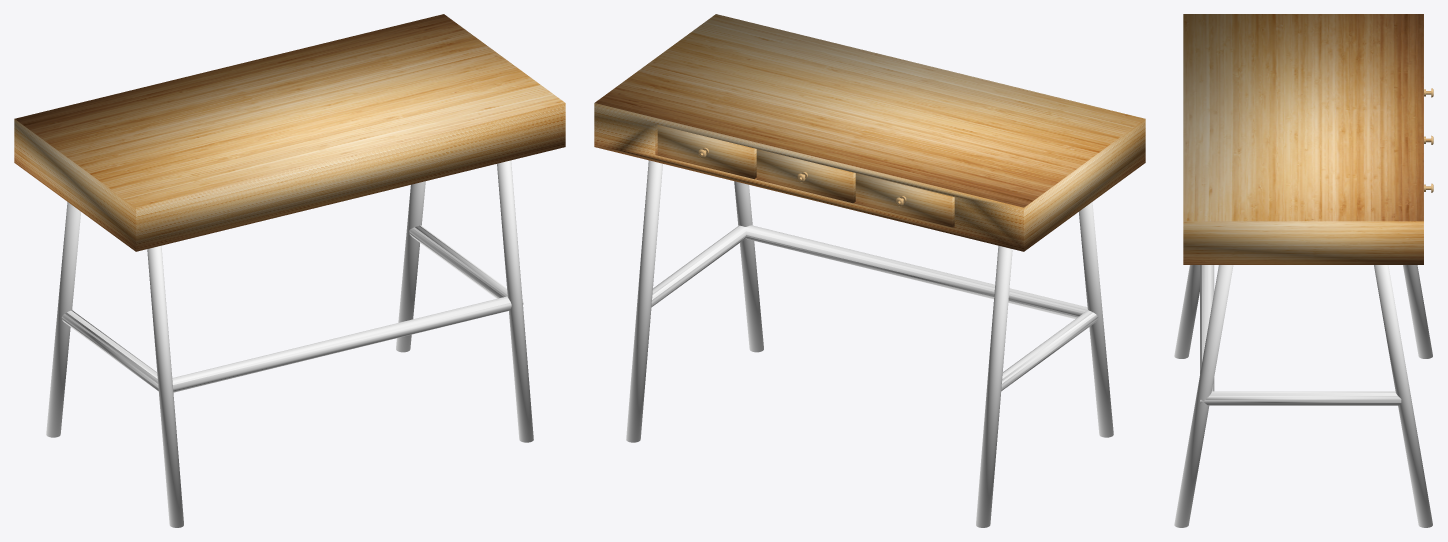
Rendered from desk_4.glb.
3 views of the same model, side by side, from view 1: azimuth 30°, elevation 25°; view 2: azimuth 150°, elevation 25°; view 3: azimuth 270°, elevation 25° (orthographic).
Parts seen in each view (by area): view 1: IKE160121.001; view 2: IKE160121.001; view 3: IKE160121.001.
Boxes of the visible parts, x1,y1,x2,y2 form: IKE160121.001: [14, 14, 565, 527]; IKE160121.001: [594, 14, 1145, 527]; IKE160121.001: [1174, 14, 1433, 527].
Size of the model in its own units: 102 by 74 by 53.9.
Materials: 2 (1 with a texture image).
